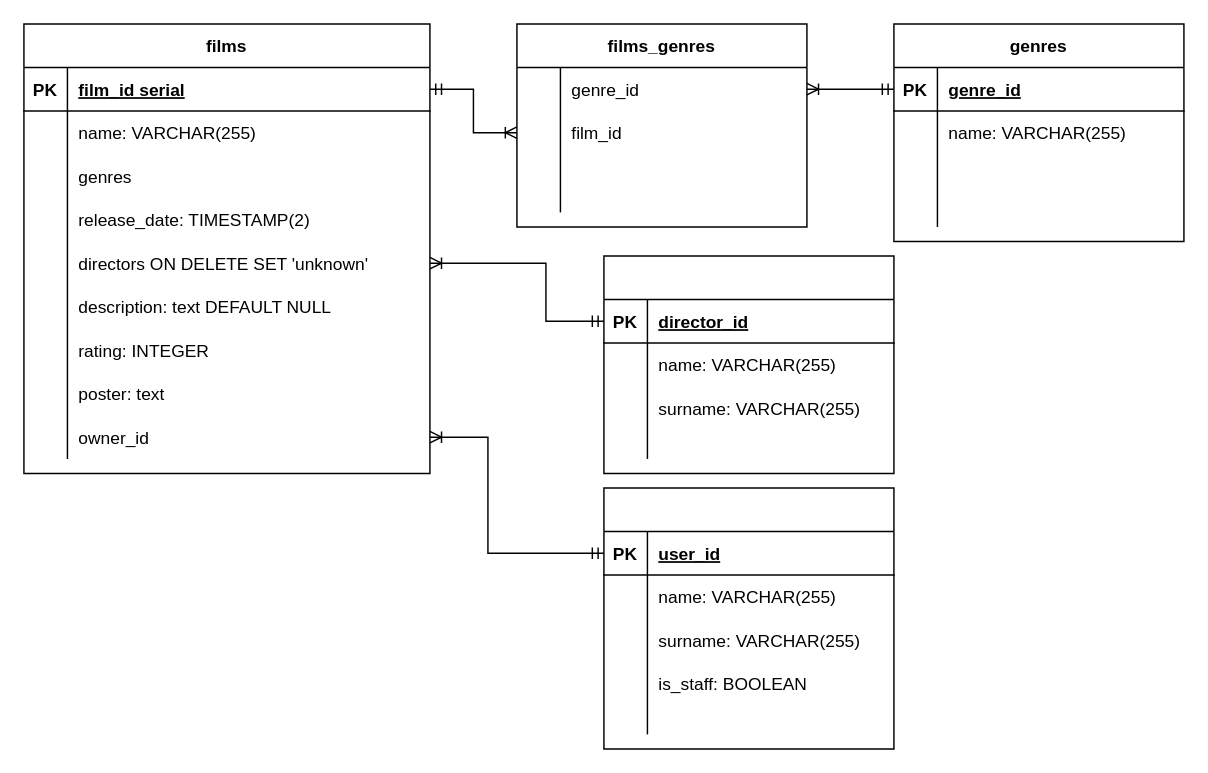
Image size: 1208x773. Some labels were removed from this diagram. The shapes that lost their labels are listed below. From the top down, each one's box as (x1, y1, x2, y2) in pixels, then its label:
(602, 254, 894, 473): directors
(602, 486, 894, 749): users
